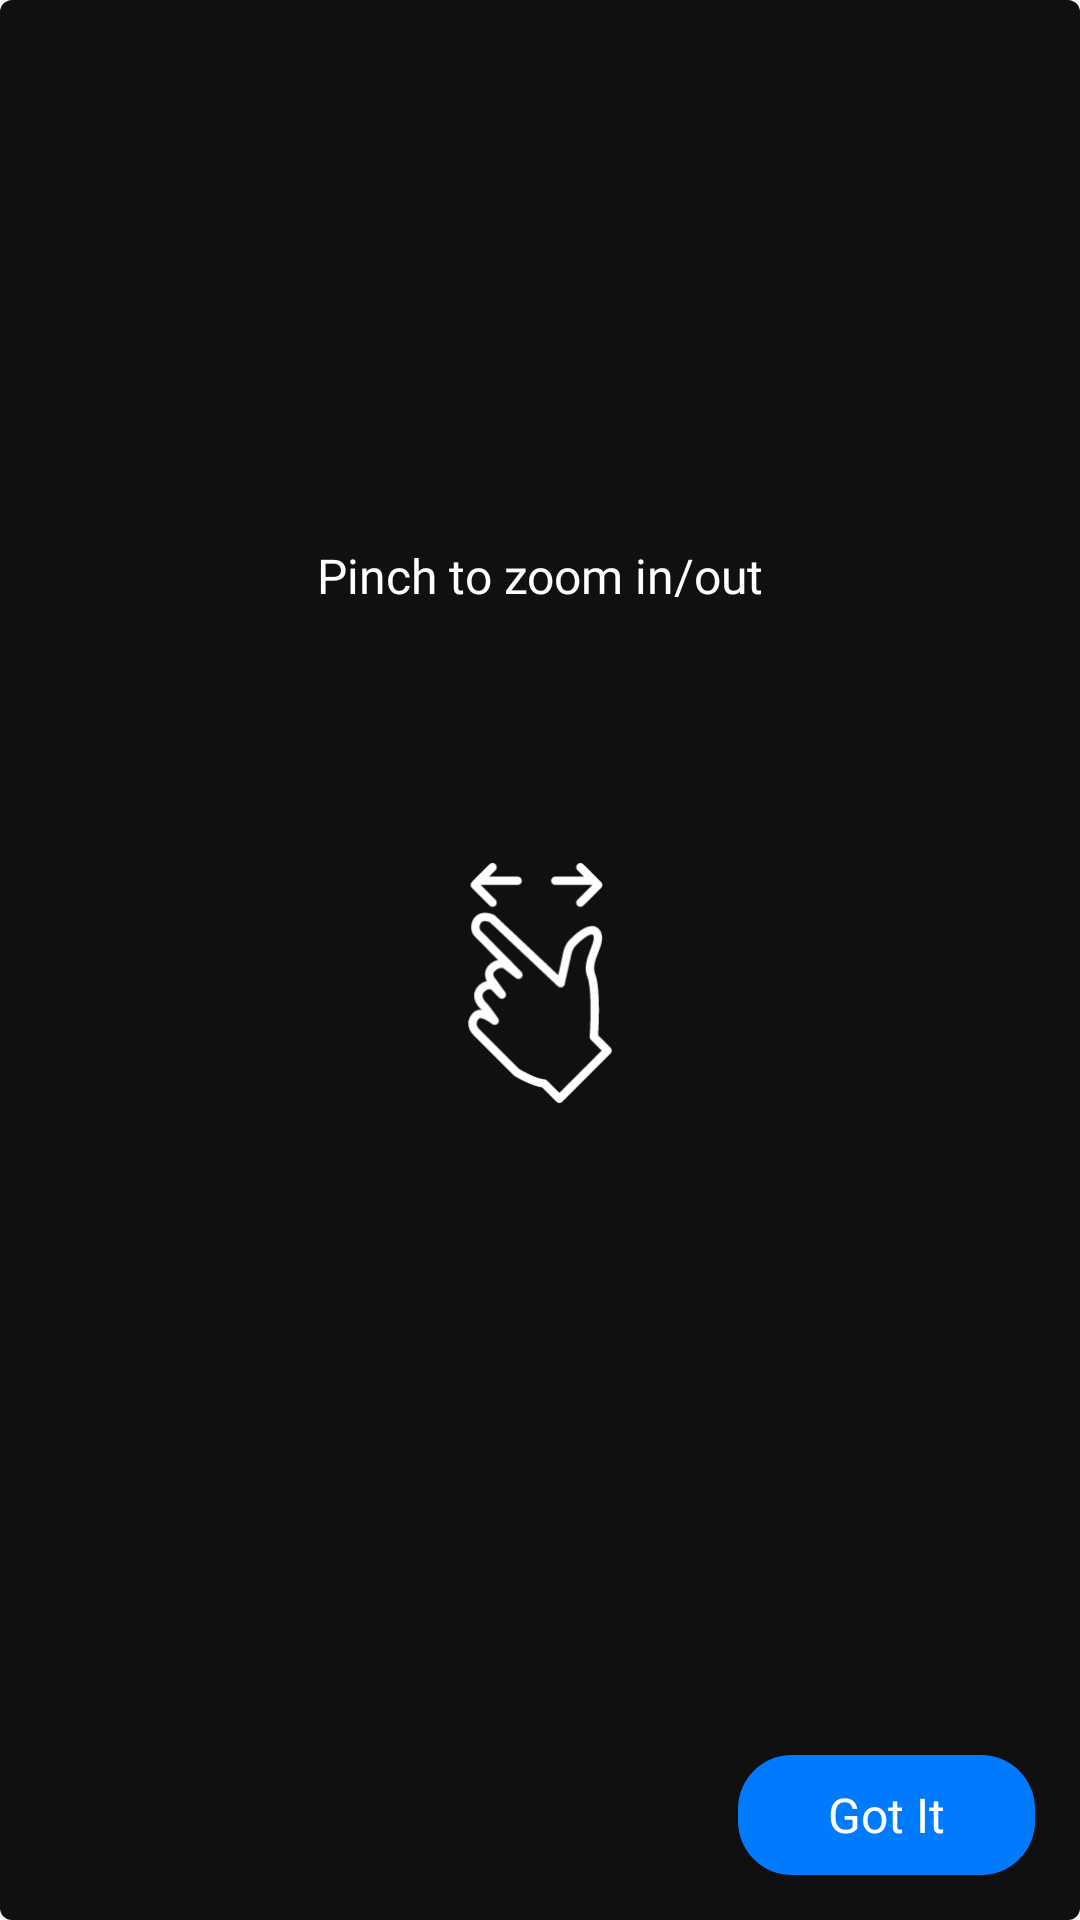

Icons on this 1080w x 1920h Android screen, each with the point to tap as point (x, y):
zoom out finger: point (540, 983)
